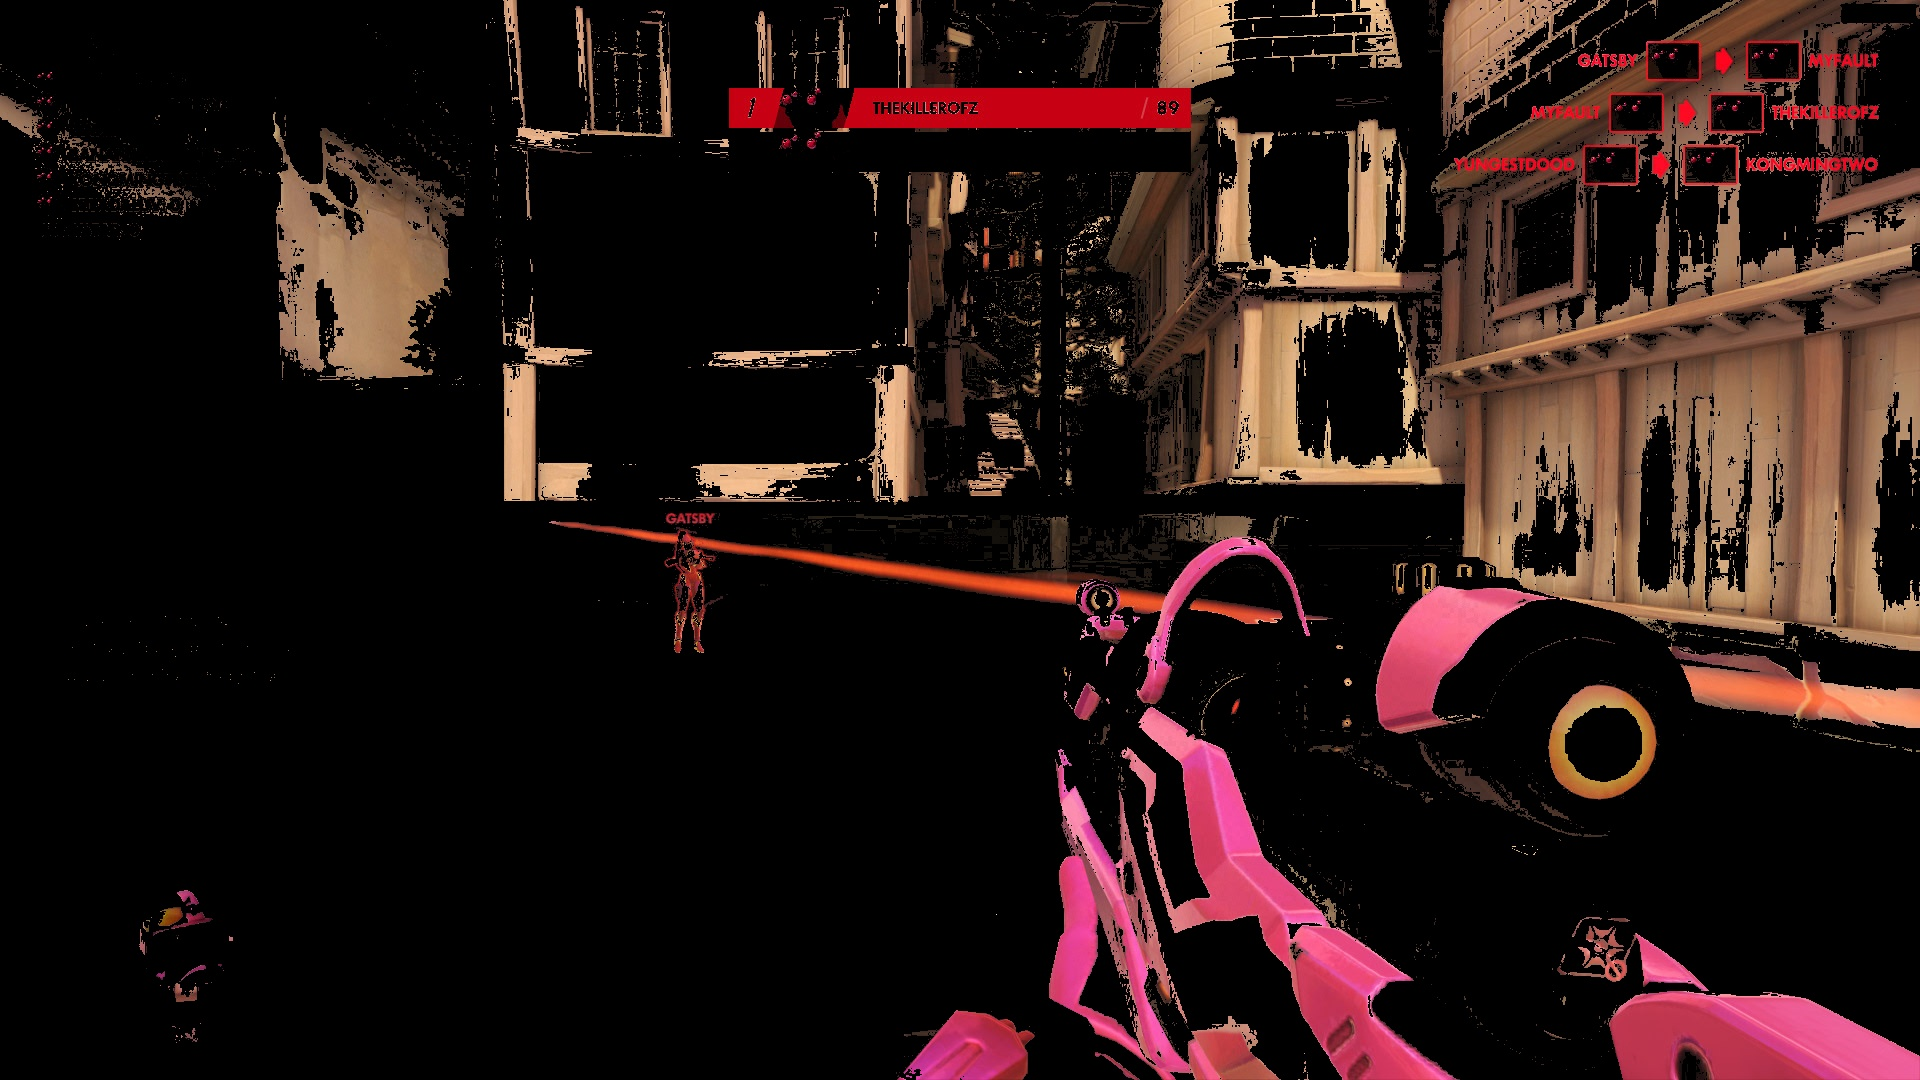widowmaker: (654, 527, 719, 662)
